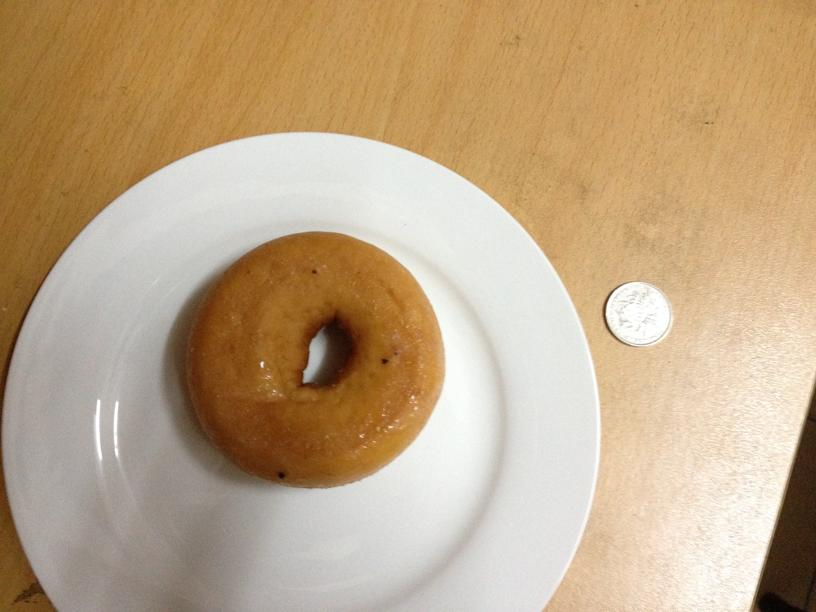coin: (603, 281, 671, 348)
doughnut: (187, 228, 446, 488)
